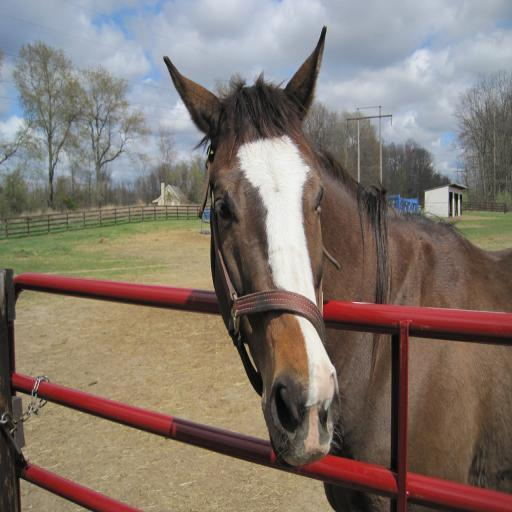horse: (159, 22, 512, 512)
